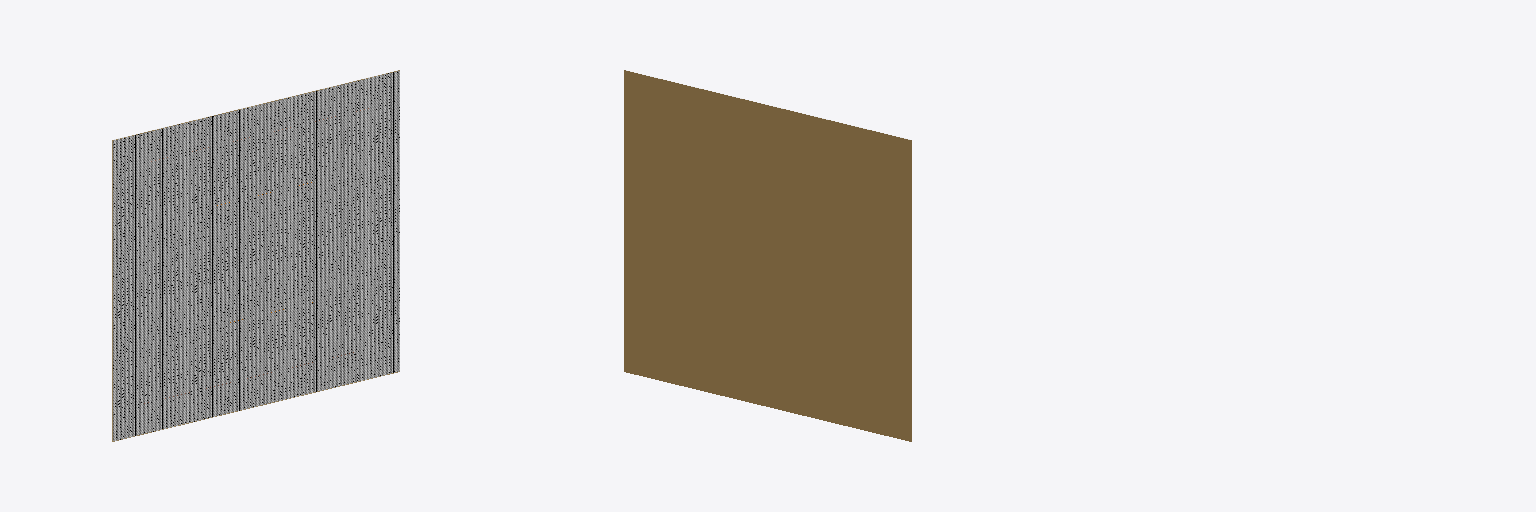
3 views of the same model, side by side, from view 1: azimuth 30°, elevation 25°; view 2: azimuth 150°, elevation 25°; view 3: azimuth 270°, elevation 25° (orthographic).
Parts seen in each view (by area): view 1: Mesh1 Model; view 2: Mesh1 Model; view 3: none.
Boxes of the visible parts, <box> form: Mesh1 Model: <box>112,70,399,441</box>; Mesh1 Model: <box>624,70,911,441</box>.
Bounding box in the file's own units: 502 × 502 × 1.
7 materials, 1 textured.